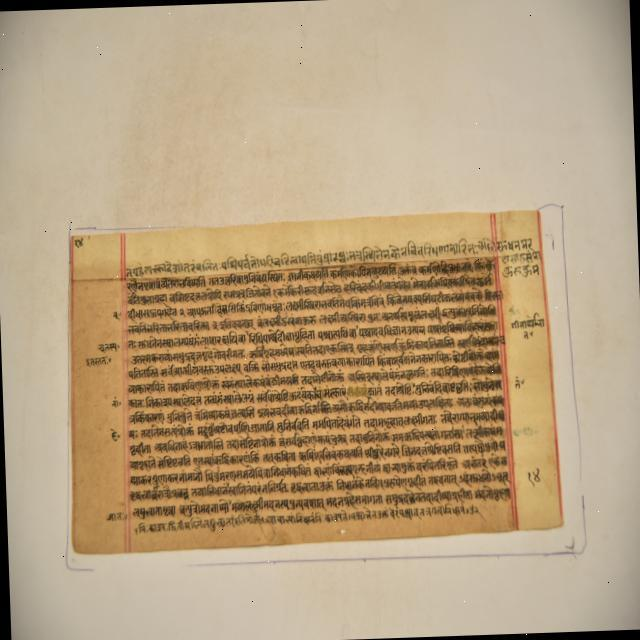text_paragraph: (70, 210, 561, 550)
